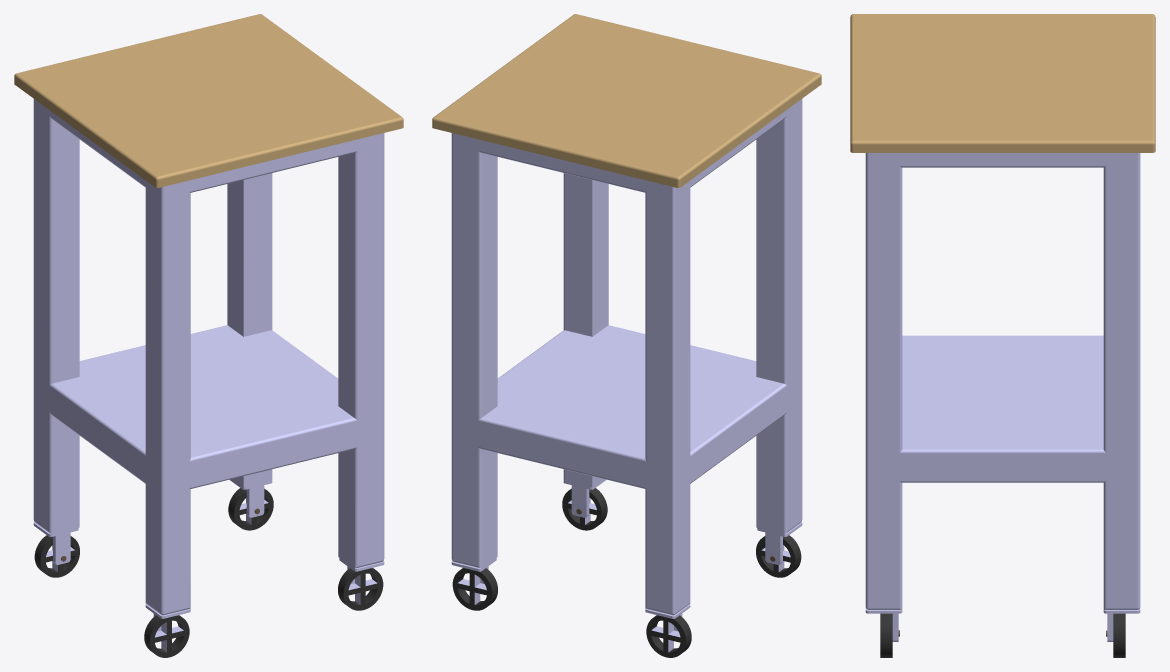
The model's file is Table_Robot.fbx.
3 renders of one model, left to right at view 1: azimuth 30°, elevation 25°; view 2: azimuth 150°, elevation 25°; view 3: azimuth 270°, elevation 25°, orthographic. The views are drawn at different scales.
Visible parts, largest first — view 1: bureau_PosteROBOT, roue-convoyeur020, roue-convoyeur023, roue-convoyeur022, roue-convoyeur021; view 2: bureau_PosteROBOT, roue-convoyeur022, roue-convoyeur021, roue-convoyeur020, roue-convoyeur023; view 3: bureau_PosteROBOT, roue-convoyeur021, roue-convoyeur023.
Boxes of the visible parts, left/top/right/bottom form: bureau_PosteROBOT: left=14, top=14, right=403, bottom=615; roue-convoyeur020: left=33, top=522, right=79, bottom=577; roue-convoyeur023: left=228, top=479, right=273, bottom=530; roue-convoyeur022: left=144, top=604, right=190, bottom=657; roue-convoyeur021: left=338, top=558, right=384, bottom=610; bureau_PosteROBOT: left=432, top=14, right=821, bottom=615; roue-convoyeur022: left=756, top=522, right=802, bottom=577; roue-convoyeur021: left=562, top=479, right=607, bottom=530; roue-convoyeur020: left=645, top=604, right=691, bottom=657; roue-convoyeur023: left=451, top=558, right=497, bottom=610; bureau_PosteROBOT: left=850, top=14, right=1155, bottom=609; roue-convoyeur021: left=865, top=608, right=902, bottom=657; roue-convoyeur023: left=1103, top=608, right=1140, bottom=657.
Size of the model in its own units: 50 by 95.5 by 50.
